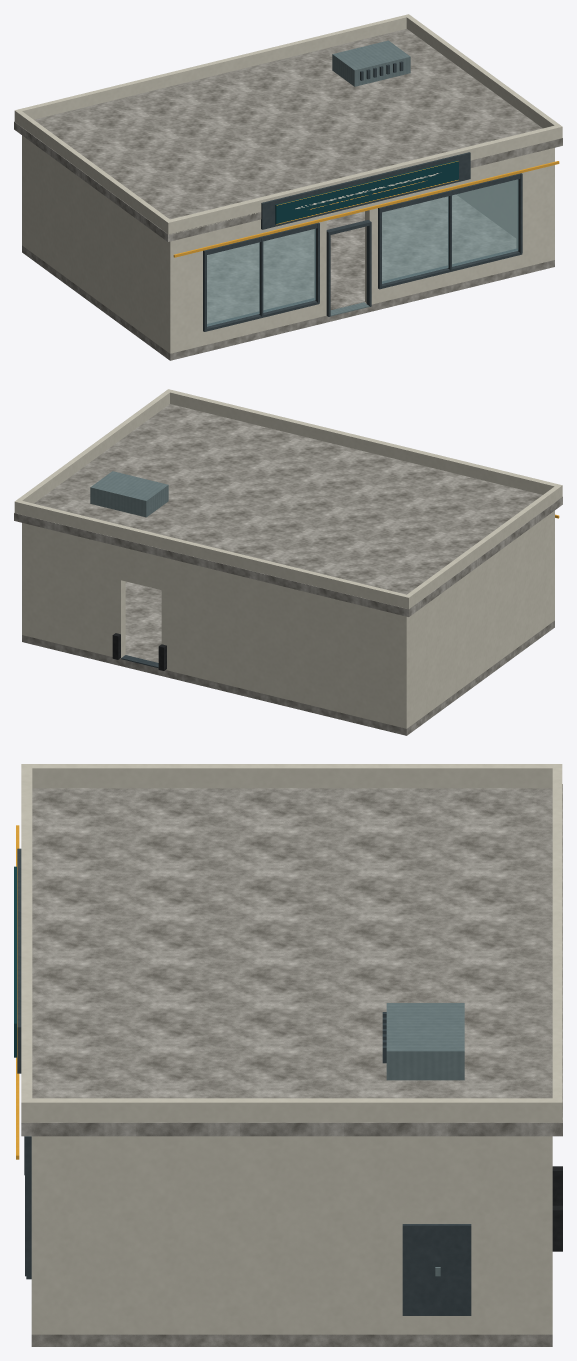
The model's file is CW24_01_Store_Shell_12x8m.glb.
3 views of the same model, one above another, from view 1: azimuth 30°, elevation 25°; view 2: azimuth 150°, elevation 25°; view 3: azimuth 270°, elevation 25° (orthographic). The views are drawn at different scales.
Parts seen in each view (by area): view 1: Store_Shell__Roof_Concrete_Deck, Store_Shell__Floor_Worn_Interior, Store_Shell__Storefront_Glass, Store_Shell__Wall_Left_Panel, Store_Shell__Roof_Parapet_Back, Store_Shell__Roof_Parapet_Front, Store_Shell__Floor_Concrete_Slab, Store_Shell__Facade_Brand_Graphic, Store_Shell__Front_Right_Masonry_Pier, Store_Shell__Front_Left_Masonry_Pier, Store_Shell__Window_KickWall, Store_Shell__Roof_Parapet_Left (+14 smaller); view 2: Store_Shell__Roof_Concrete_Deck, Store_Shell__Rear_Wall_Left, Store_Shell__Wall_Left_Panel, Store_Shell__Rear_Wall_Right, Store_Shell__Roof_Parapet_Back, Store_Shell__Roof_Parapet_Front, Store_Shell__Floor_Concrete_Slab, Store_Shell__Floor_Worn_Interior, Store_Shell__Roof_HVAC_Housing, Store_Shell__Roof_Parapet_Left, Store_Shell__Roof_Parapet_Right, Store_Shell__Rear_Lintel_Over_Service_Door (+2 smaller); view 3: Store_Shell__Roof_Concrete_Deck, Store_Shell__Wall_Right_Panel, Store_Shell__Roof_Parapet_Right, Store_Shell__Roof_Parapet_Left, Store_Shell__Floor_Concrete_Slab, Store_Shell__Side_Exterior_ServicePanel, Store_Shell__Roof_HVAC_Housing, Store_Shell__Roof_Parapet_Front, Store_Shell__Roof_Parapet_Back, Store_Shell__Front_Right_Masonry_Pier, Store_Shell__Facade_Brand_Backplate, Store_Shell__Rear_Wall_Right (+2 smaller).
Boxes of the visible parts, x1,y1,x2,y2 form: Store_Shell__Roof_Concrete_Deck: (14, 28, 562, 241); Store_Shell__Floor_Worn_Interior: (207, 194, 515, 323); Store_Shell__Storefront_Glass: (207, 179, 518, 326); Store_Shell__Wall_Left_Panel: (22, 135, 177, 353); Store_Shell__Roof_Parapet_Back: (14, 14, 411, 123); Store_Shell__Roof_Parapet_Front: (165, 124, 562, 235); Store_Shell__Floor_Concrete_Slab: (22, 245, 554, 360); Store_Shell__Facade_Brand_Graphic: (275, 160, 458, 224); Store_Shell__Front_Right_Masonry_Pier: (516, 148, 554, 267); Store_Shell__Front_Left_Masonry_Pier: (165, 233, 202, 353); Store_Shell__Window_KickWall: (203, 255, 520, 345); Store_Shell__Roof_Parapet_Left: (17, 111, 169, 231); Store_Shell__Roof_Concrete_Deck: (14, 404, 562, 616); Store_Shell__Rear_Wall_Left: (161, 557, 411, 728); Store_Shell__Wall_Left_Panel: (399, 510, 554, 728); Store_Shell__Rear_Wall_Right: (22, 523, 125, 658); Store_Shell__Roof_Parapet_Back: (14, 499, 411, 609); Store_Shell__Roof_Parapet_Front: (165, 389, 562, 498); Store_Shell__Floor_Concrete_Slab: (22, 620, 554, 735); Store_Shell__Floor_Worn_Interior: (125, 581, 161, 662); Store_Shell__Roof_HVAC_Housing: (90, 471, 168, 517); Store_Shell__Roof_Parapet_Left: (407, 486, 559, 606); Store_Shell__Roof_Parapet_Right: (17, 391, 169, 503); Store_Shell__Rear_Lintel_Over_Service_Door: (121, 547, 161, 589); Store_Shell__Roof_Concrete_Deck: (21, 784, 562, 1136); Store_Shell__Wall_Right_Panel: (31, 1136, 552, 1334); Store_Shell__Roof_Parapet_Right: (31, 1098, 552, 1122); Store_Shell__Roof_Parapet_Left: (32, 764, 552, 788); Store_Shell__Floor_Concrete_Slab: (31, 1334, 552, 1346); Store_Shell__Side_Exterior_ServicePanel: (402, 1224, 471, 1315); Store_Shell__Roof_HVAC_Housing: (386, 1003, 464, 1080); Store_Shell__Roof_Parapet_Front: (21, 764, 32, 1122); Store_Shell__Roof_Parapet_Back: (552, 764, 562, 1122); Store_Shell__Front_Right_Masonry_Pier: (31, 1136, 47, 1334); Store_Shell__Facade_Brand_Backplate: (17, 848, 21, 1073); Store_Shell__Rear_Wall_Right: (537, 1137, 552, 1334).
Bounding box in the file's own units: 12.32 × 4.38 × 8.43.
8 materials, 8 textured.
